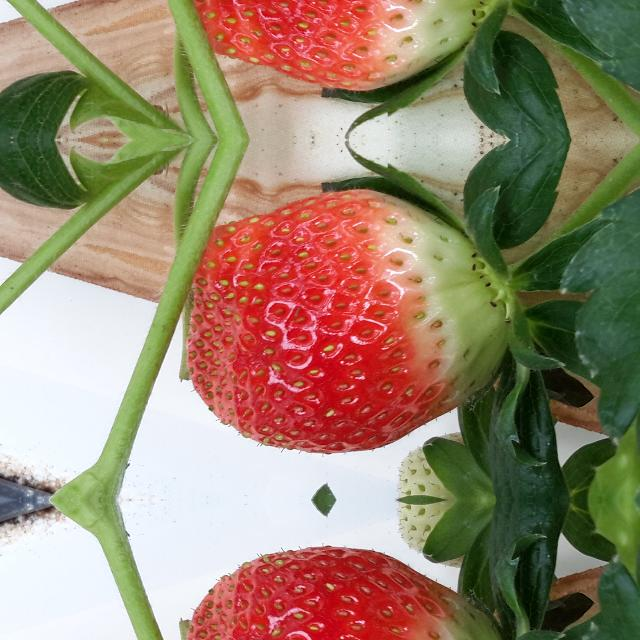Health_100: (187, 186, 508, 456), (186, 544, 507, 640), (186, 0, 507, 94)
